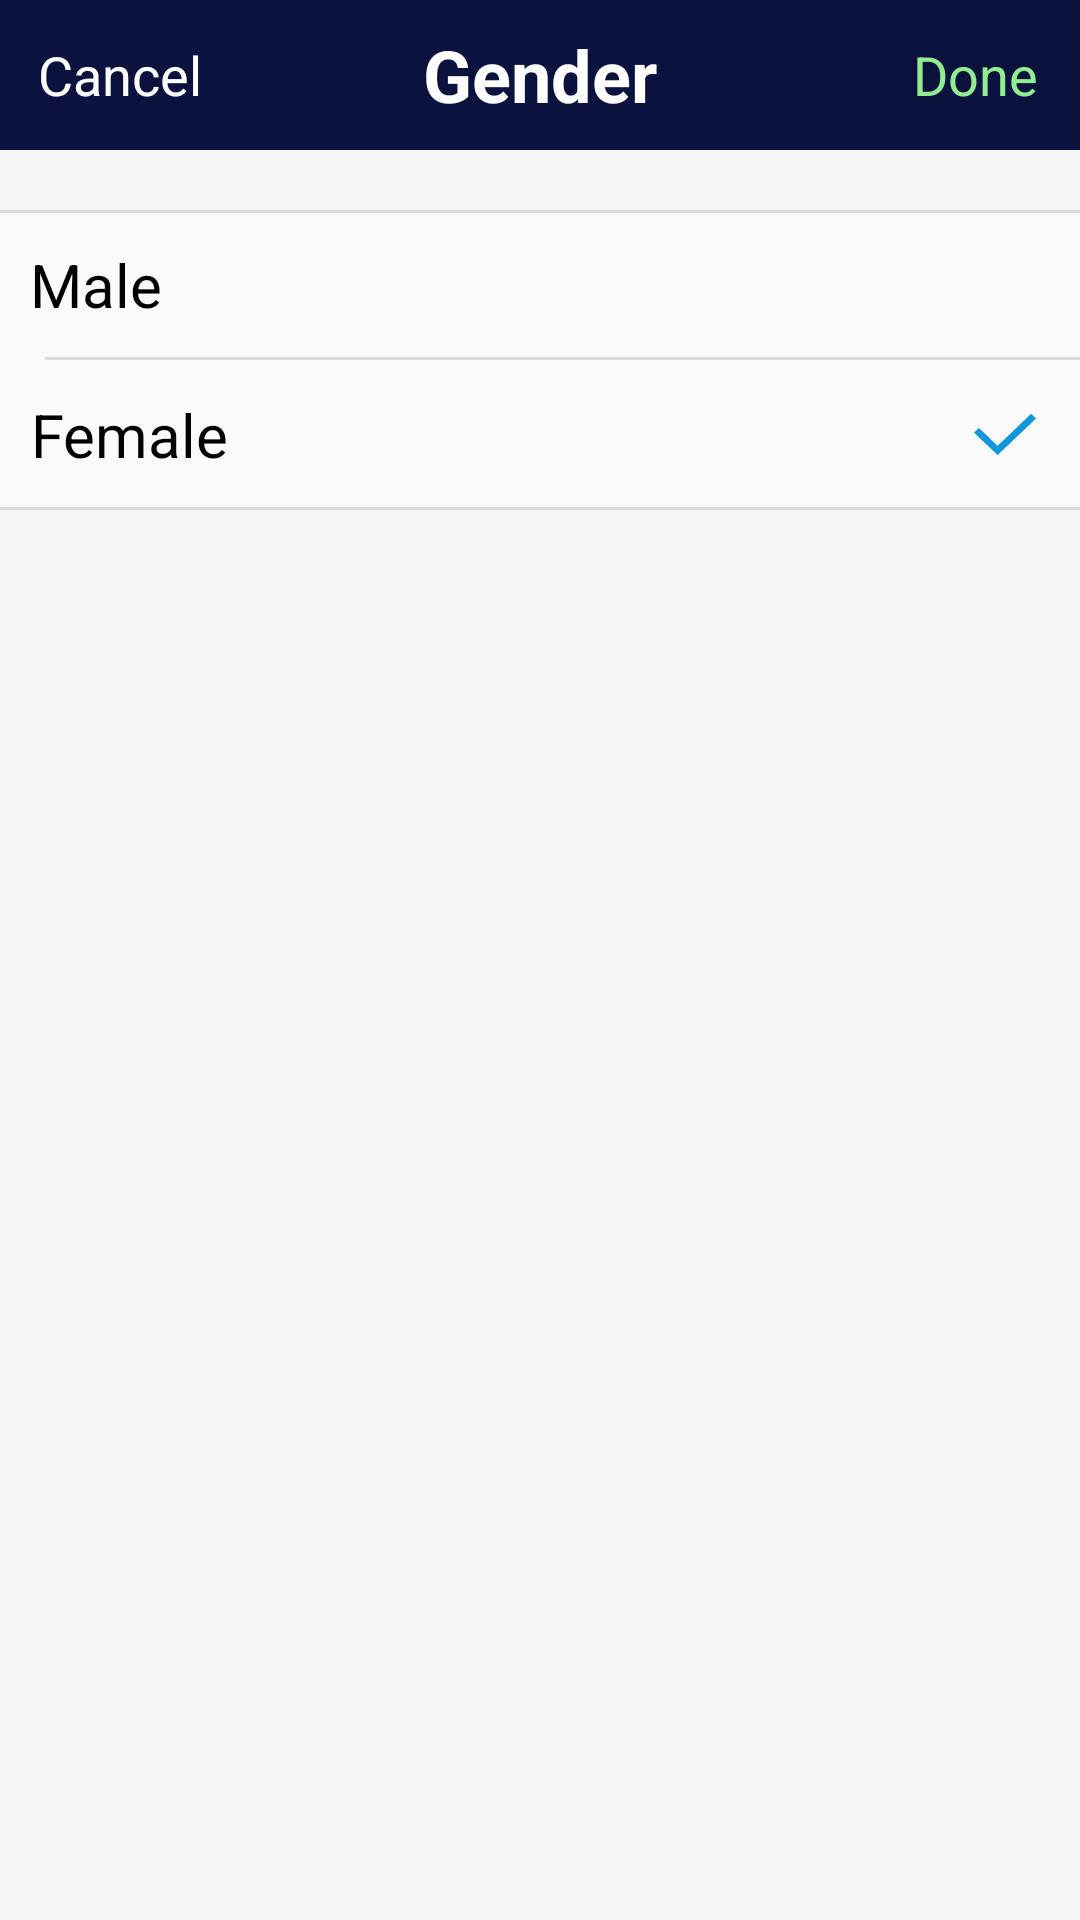

Icon bounding boxes for this 1080×1920 phone screenshot, format (x1, y1, x2, y2):
check: (974, 414, 1036, 455)
